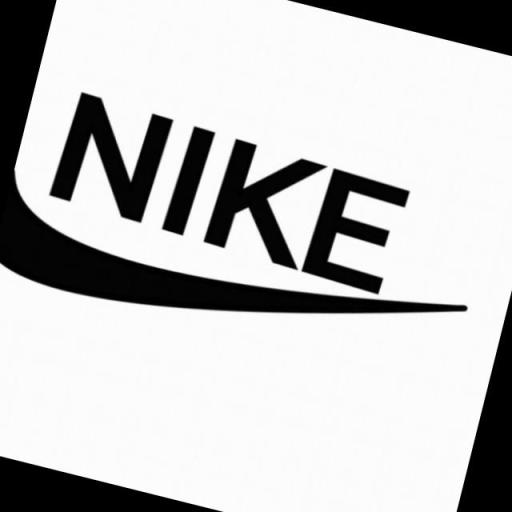Nike: (0, 184, 482, 395), (40, 100, 429, 294)
